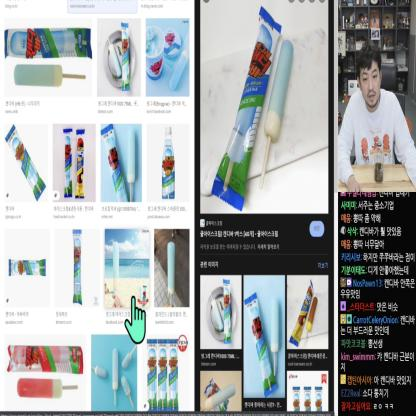streamer: (338, 42, 416, 192)
